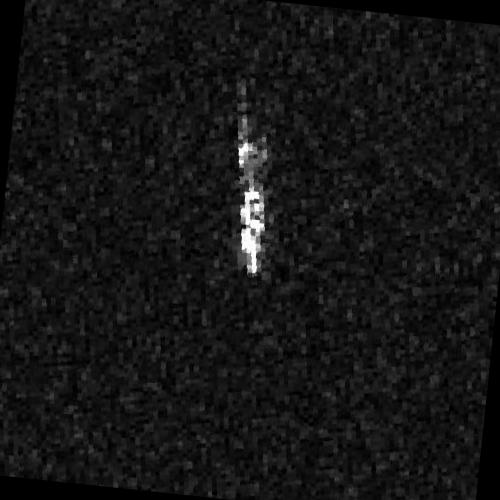ship: (237, 140, 266, 275)
